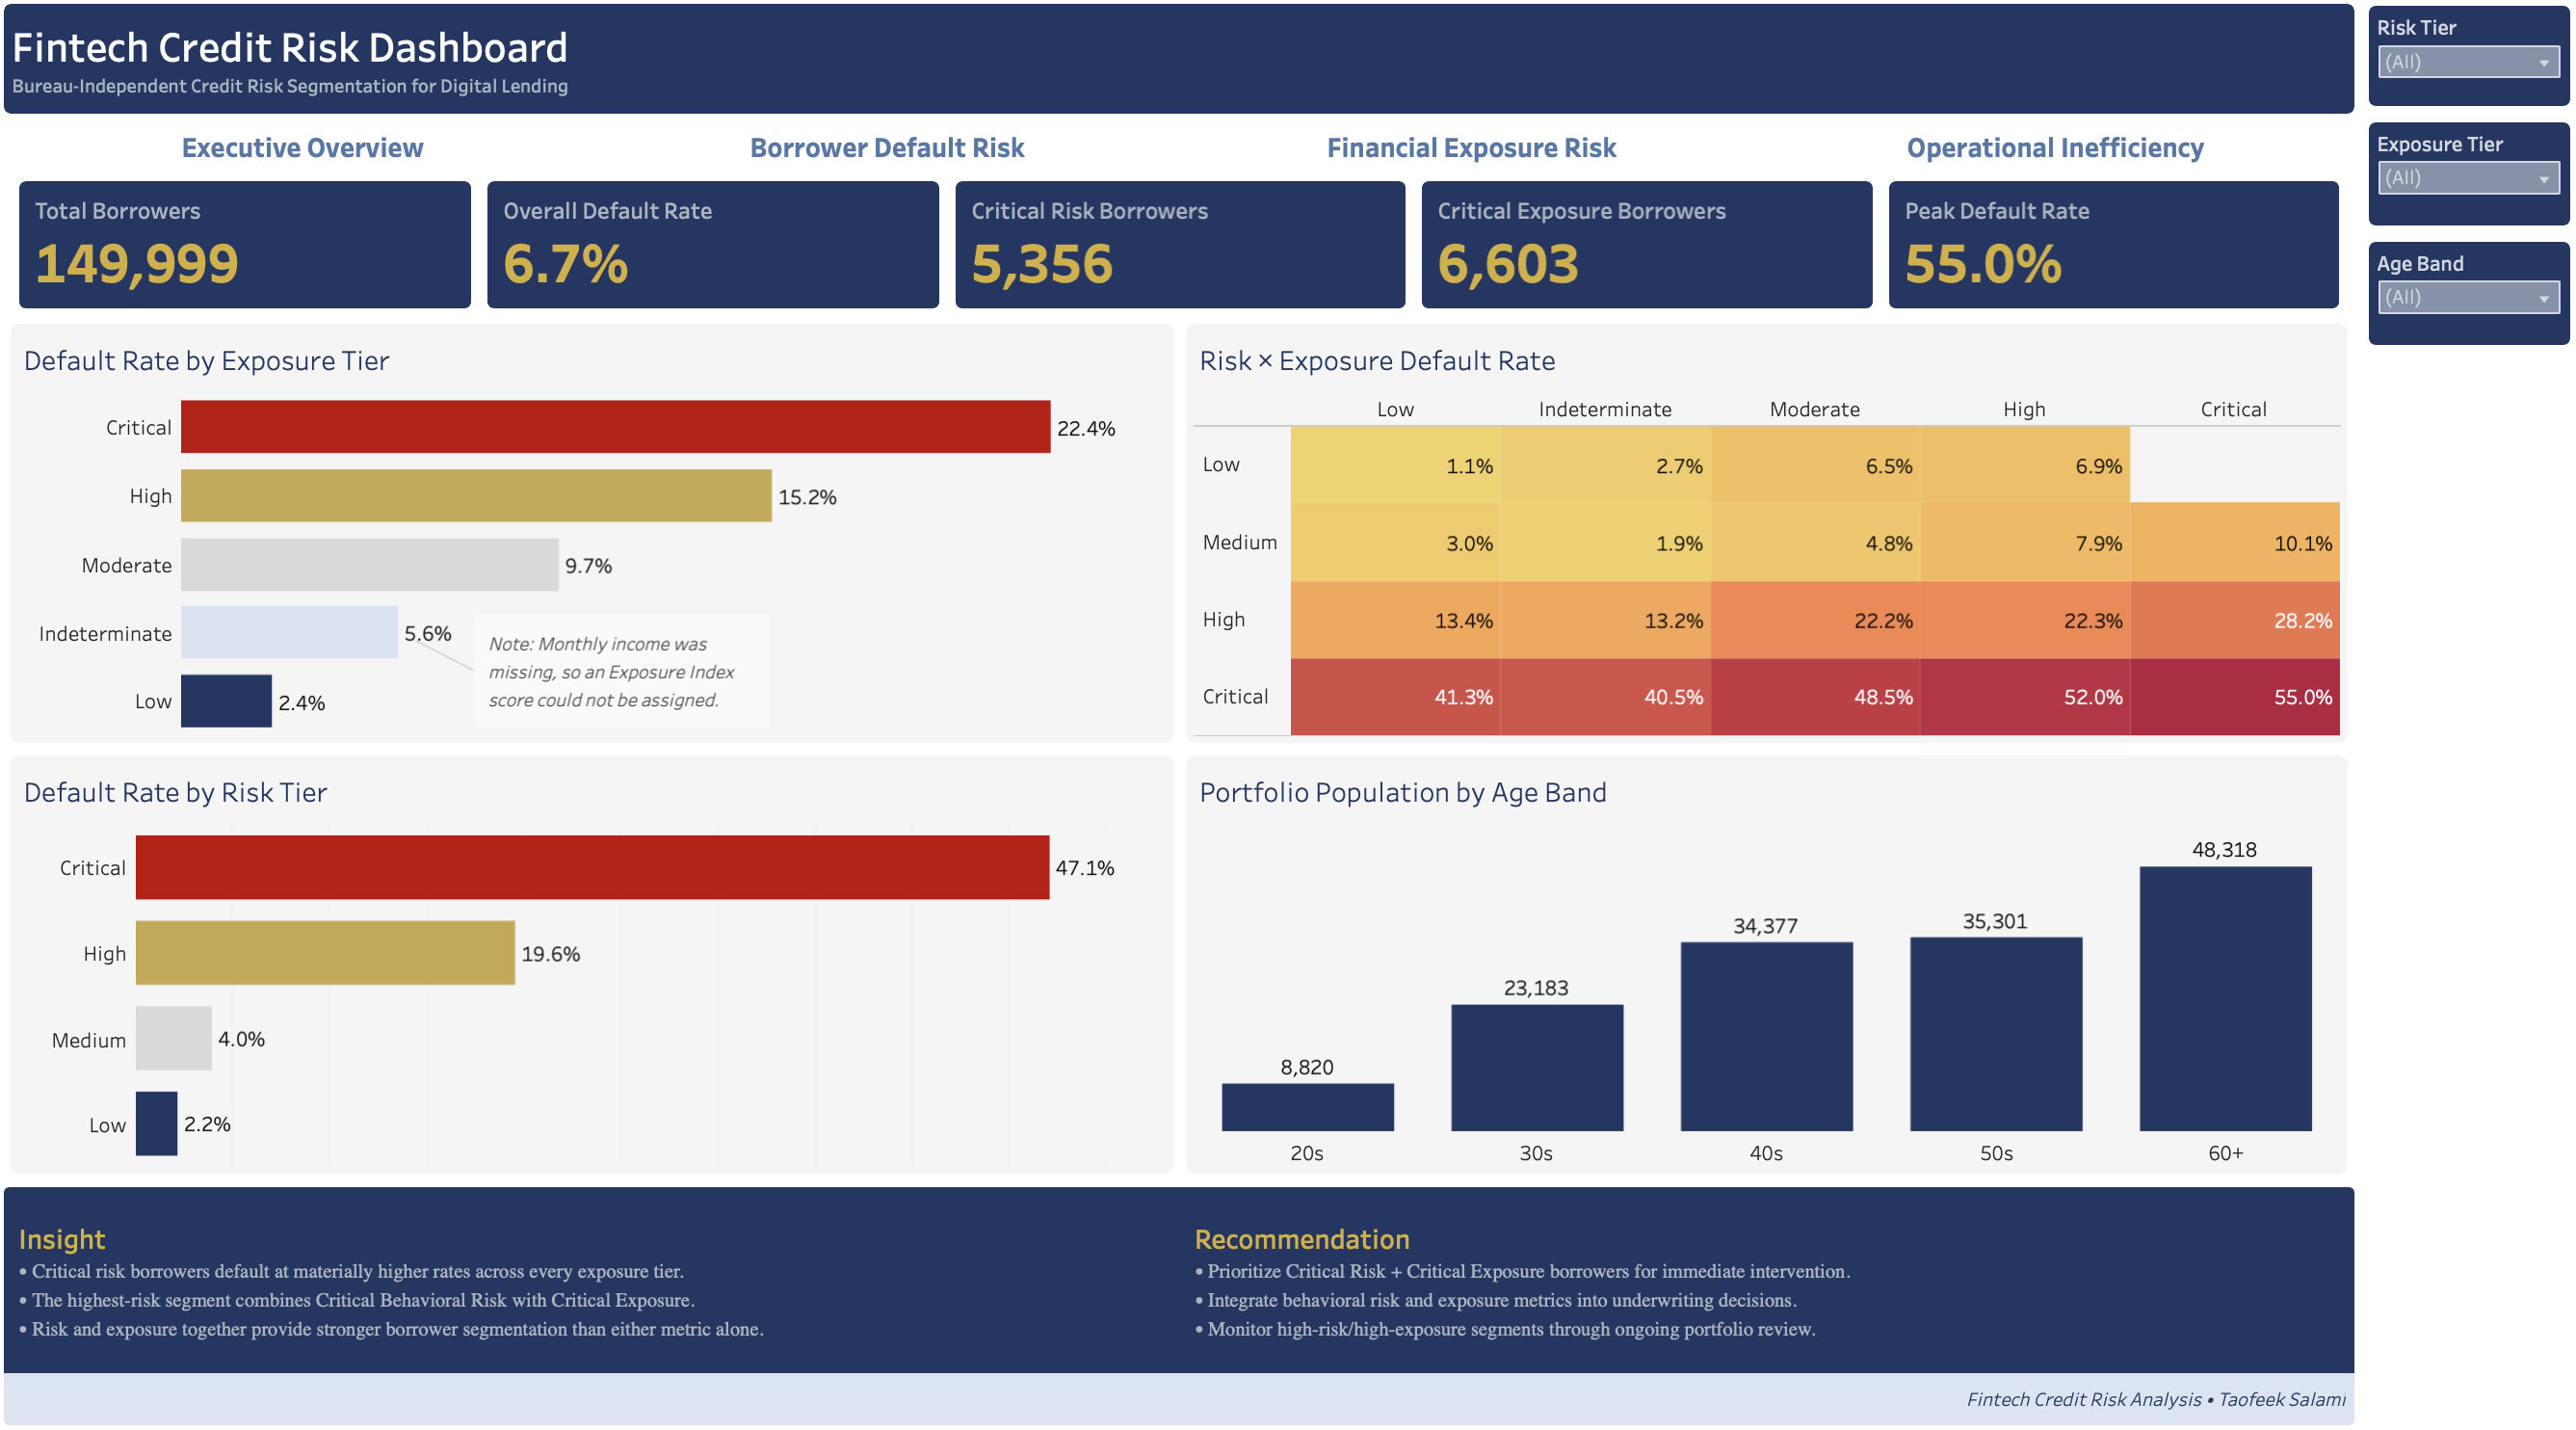

This screenshot's page, from the dashboard's own definition file:
{"tool":"tableau","page":{"name":"DB01 - Executive Overview","canvas":[1600,900],"ordinal":0},"visuals":[{"type":"filter","title":"19 - Chart - Risk × Exposure Heatmap","param":"[federated.0l6wklt0usoimd1as64wt0mplcod].[none:risk_tier:nk]","box":[1455,12,133,71]},{"type":"text","box":[16,16,1435,67]},{"type":"filter","title":"19 - Chart - Risk × Exposure Heatmap","param":"[federated.0l6wklt0usoimd1as64wt0mplcod].[none:exposure_tier:nk]","box":[1455,83,133,73]},{"type":"dashboard-object","box":[20,87,357,32]},{"type":"dashboard-object","box":[377,87,357,32]},{"type":"dashboard-object","box":[734,87,357,32]},{"type":"dashboard-object","box":[1091,87,356,32]},{"type":"worksheet","title":"01 - KPI - Population","mark":"Automatic","box":[20,119,286,88]},{"type":"worksheet","title":"02 - KPI - Overall Default Rate","mark":"Automatic","box":[306,119,286,88]},{"type":"worksheet","title":"03 - KPI - Critical Risk Borrowers","mark":"Automatic","box":[592,119,285,88]},{"type":"worksheet","title":"04 - KPI - Critical Exposure Borrowers","mark":"Automatic","box":[877,119,285,88]},{"type":"worksheet","title":"05 - KPI - Highest Combined Default Rate","mark":"Automatic","box":[1162,119,285,88]},{"type":"filter","title":"20 - Chart - Population Distribution","param":"[federated.0l6wklt0usoimd1as64wt0mplcod].[none:age_band:nk]","box":[1455,156,133,73]},{"type":"worksheet","title":"18 - Chart - Exposure Tier vs Default Rate","mark":"Automatic","rows":["exposure_tier"],"cols":["SeriousDlqin2yrs"],"box":[16,207,718,264]},{"type":"worksheet","title":"19 - Chart - Risk × Exposure Heatmap","mark":"Square","rows":["risk_tier"],"cols":["exposure_tier"],"box":[734,207,717,264]},{"type":"worksheet","title":"17 - Chart - Default Rate by Risk Tier","mark":"Automatic","rows":["risk_tier"],"cols":["SeriousDlqin2yrs"],"box":[16,471,718,263]},{"type":"worksheet","title":"20 - Chart - Population Distribution","mark":"Automatic","rows":["vtsum"],"cols":["age_band"],"box":[734,471,717,263]},{"type":"text","box":[16,738,718,114]},{"type":"text","box":[734,738,717,114]},{"type":"text","box":[16,852,1435,32]}]}

Visuals, with their boxes in screenshot pixels (x1, y1, x2, y2), scaled from the page's 1600x900 canvas onto the 2576x1430 screenshot:
"19 - Chart - Risk × Exposure Heatmap" filter: (left=2343, top=19, right=2557, bottom=132)
text: (left=26, top=25, right=2336, bottom=132)
"19 - Chart - Risk × Exposure Heatmap" filter: (left=2343, top=132, right=2557, bottom=248)
dashboard-object: (left=32, top=138, right=607, bottom=189)
dashboard-object: (left=607, top=138, right=1182, bottom=189)
dashboard-object: (left=1182, top=138, right=1756, bottom=189)
dashboard-object: (left=1756, top=138, right=2329, bottom=189)
"01 - KPI - Population" worksheet: (left=32, top=189, right=492, bottom=329)
"02 - KPI - Overall Default Rate" worksheet: (left=492, top=189, right=953, bottom=329)
"03 - KPI - Critical Risk Borrowers" worksheet: (left=953, top=189, right=1412, bottom=329)
"04 - KPI - Critical Exposure Borrowers" worksheet: (left=1412, top=189, right=1871, bottom=329)
"05 - KPI - Highest Combined Default Rate" worksheet: (left=1871, top=189, right=2329, bottom=329)
"20 - Chart - Population Distribution" filter: (left=2343, top=248, right=2557, bottom=364)
"18 - Chart - Exposure Tier vs Default Rate" worksheet: (left=26, top=329, right=1182, bottom=749)
"19 - Chart - Risk × Exposure Heatmap" worksheet (Square marks): (left=1182, top=329, right=2336, bottom=749)
"17 - Chart - Default Rate by Risk Tier" worksheet: (left=26, top=749, right=1182, bottom=1166)
"20 - Chart - Population Distribution" worksheet: (left=1182, top=749, right=2336, bottom=1166)
text: (left=26, top=1173, right=1182, bottom=1354)
text: (left=1182, top=1173, right=2336, bottom=1354)
text: (left=26, top=1354, right=2336, bottom=1405)
